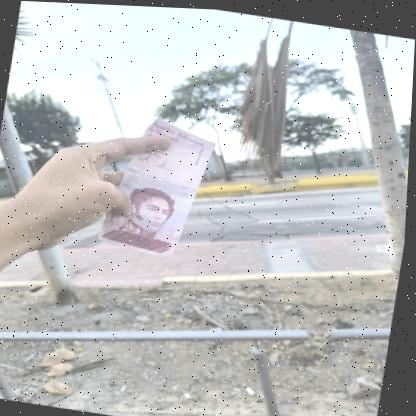one_hundred-front-vef: (98, 110, 221, 260)
